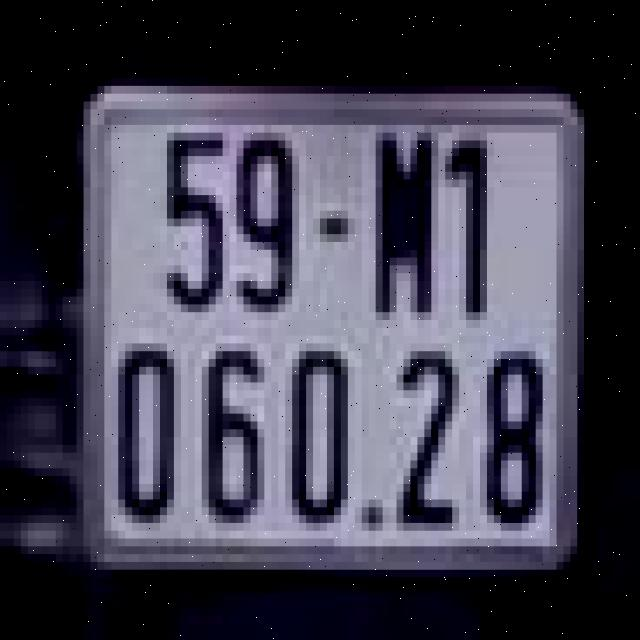0: (282, 340, 358, 534), (111, 339, 181, 527)
1: (442, 113, 511, 316)
2: (393, 336, 463, 546)
5: (157, 117, 226, 320)
6: (191, 336, 268, 530)
8: (480, 340, 557, 542)
9: (230, 121, 299, 316)
M: (355, 121, 445, 324)
